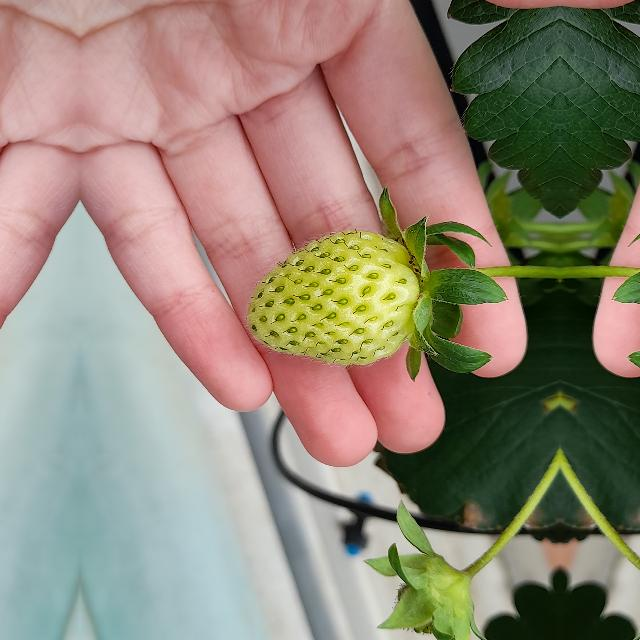Health_25: (247, 228, 419, 364)
